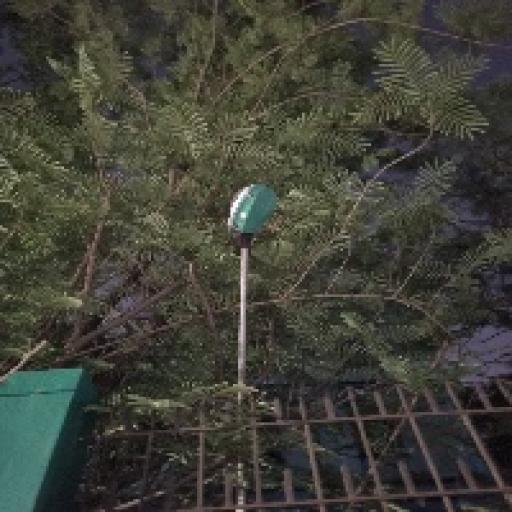Not Working: (216, 176, 288, 256)
